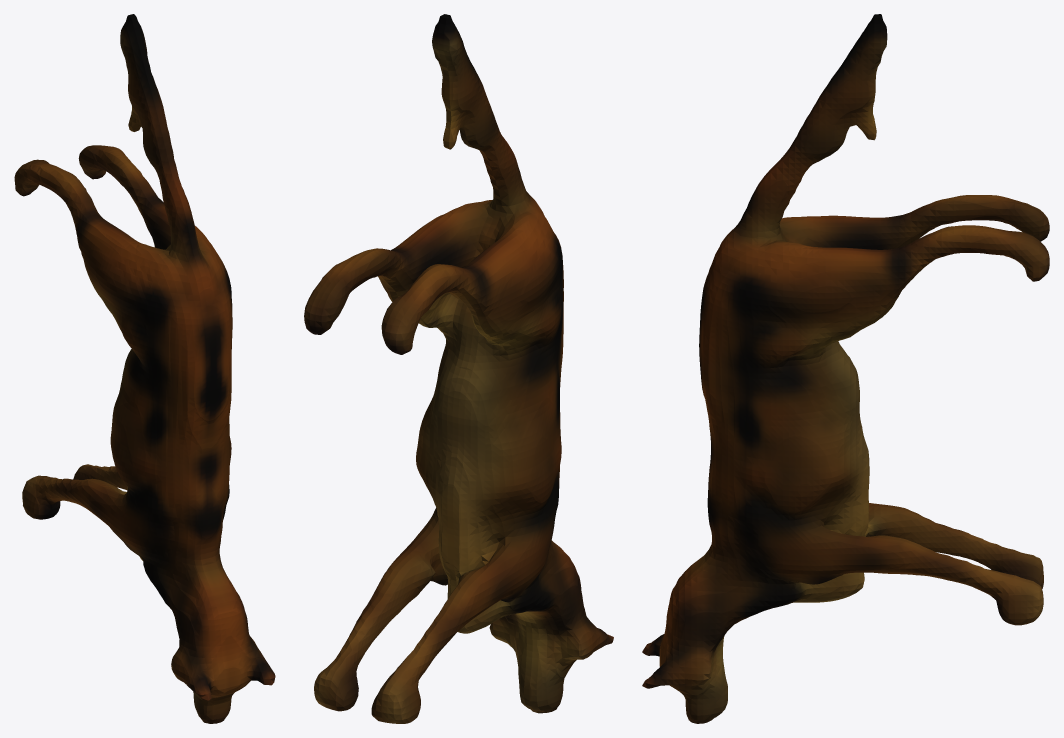
The model's file is a cheetah.fbx.
3 renders of one model, left to right at view 1: azimuth 30°, elevation 25°; view 2: azimuth 150°, elevation 25°; view 3: azimuth 270°, elevation 25°, orthographic. The views are drawn at different scales.
Visible parts, largest first — view 1: a cheetah_3; view 2: a cheetah_3; view 3: a cheetah_3.
Boxes of the visible parts, x1=… form: a cheetah_3: x1=14, y1=14, x2=275, y2=723; a cheetah_3: x1=304, y1=14, x2=613, y2=723; a cheetah_3: x1=642, y1=14, x2=1049, y2=723.
Bounding box in the file's own units: 33.64 × 198 × 103.
